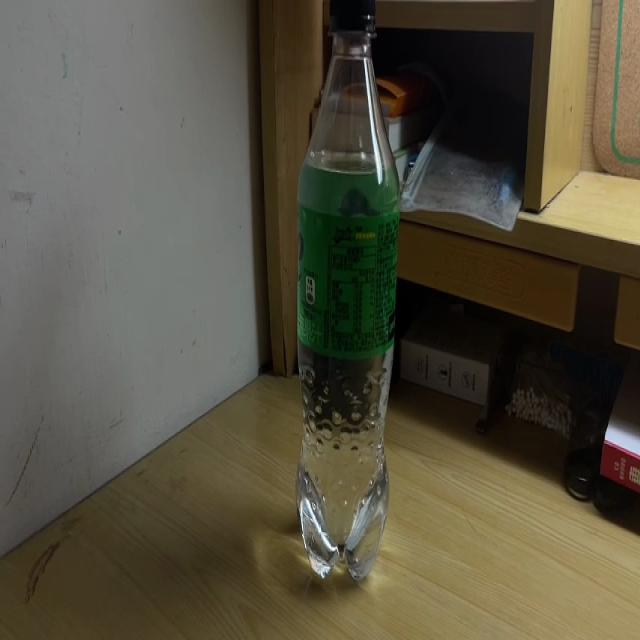Sprite: (295, 0, 397, 584)
